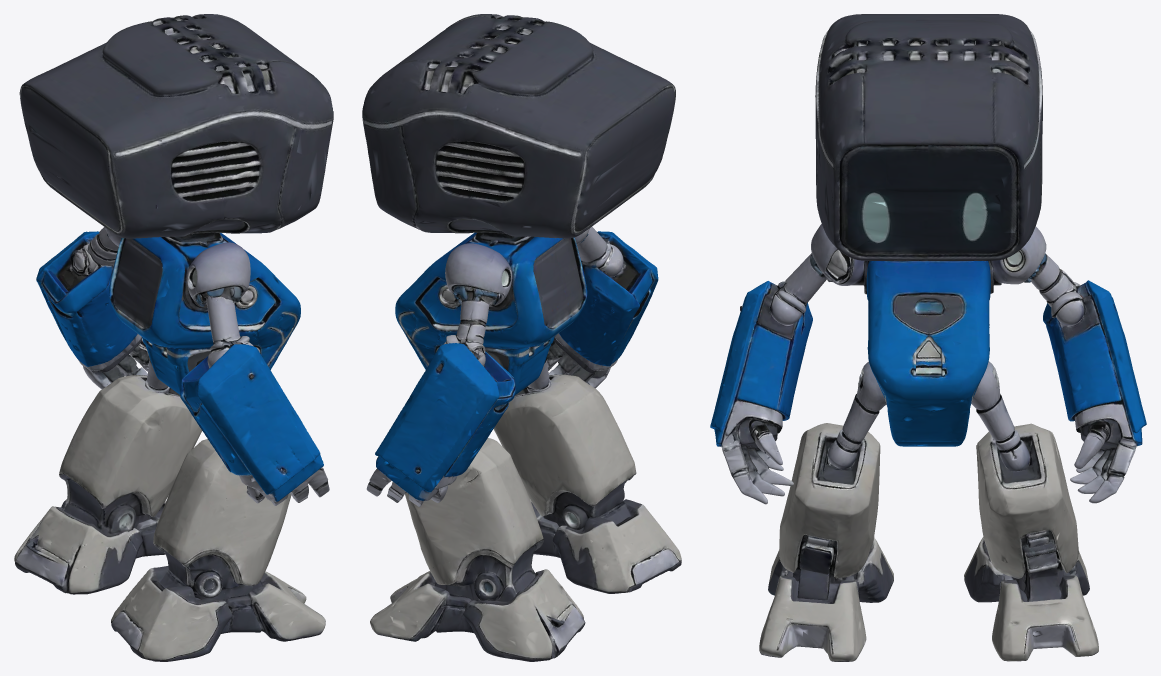
Rendered from pippo-3d.glb.
The picture shows the model from 3 angles, left to right: view 1: azimuth 30°, elevation 25°; view 2: azimuth 150°, elevation 25°; view 3: azimuth 270°, elevation 25°; orthographic projection. The views are drawn at different scales.
Parts seen in each view (by area): view 1: tripo_part_10, tripo_part_12, tripo_part_9, tripo_part_0, tripo_part_3, tripo_part_2, tripo_part_14, tripo_part_new_0, tripo_part_1, tripo_part_13, tripo_part_8; view 2: tripo_part_10, tripo_part_9, tripo_part_3, tripo_part_12, tripo_part_14, tripo_part_new_0, tripo_part_2, tripo_part_0, tripo_part_13, tripo_part_1, tripo_part_8; view 3: tripo_part_10, tripo_part_9, tripo_part_0, tripo_part_14, tripo_part_12, tripo_part_3, tripo_part_2, tripo_part_new_0, tripo_part_1, tripo_part_13, tripo_part_11, tripo_part_6.
Boxes of the visible parts, box(x1,y1,x2,y2) form: tripo_part_10: box(19, 14, 333, 238); tripo_part_12: box(26, 375, 202, 562); tripo_part_9: box(109, 233, 300, 394); tripo_part_0: box(180, 344, 329, 505); tripo_part_3: box(153, 439, 291, 600); tripo_part_2: box(111, 566, 325, 661); tripo_part_14: box(36, 231, 149, 389); tripo_part_new_0: box(14, 501, 165, 594); tripo_part_1: box(187, 242, 253, 368); tripo_part_13: box(70, 227, 121, 274); tripo_part_8: box(161, 232, 221, 246); tripo_part_10: box(362, 14, 675, 238); tripo_part_9: box(395, 232, 587, 395); tripo_part_3: box(493, 374, 636, 529); tripo_part_12: box(405, 438, 571, 626); tripo_part_14: box(366, 343, 515, 506); tripo_part_new_0: box(370, 569, 585, 661); tripo_part_2: box(530, 499, 681, 593); tripo_part_0: box(547, 231, 658, 388); tripo_part_13: box(443, 243, 512, 366); tripo_part_1: box(575, 226, 623, 276); tripo_part_8: box(475, 232, 534, 245); tripo_part_10: box(815, 14, 1042, 260); tripo_part_9: box(851, 261, 1001, 446); tripo_part_0: box(710, 281, 812, 504); tripo_part_14: box(1043, 280, 1146, 503); tripo_part_12: box(976, 423, 1078, 601); tripo_part_3: box(779, 423, 880, 600); tripo_part_2: box(759, 537, 893, 661); tripo_part_new_0: box(964, 537, 1098, 661); tripo_part_1: box(771, 224, 864, 325); tripo_part_13: box(990, 226, 1084, 325); tripo_part_11: box(971, 361, 1030, 471); tripo_part_6: box(828, 361, 886, 469).
Size of the model in its own units: 0.4415 by 0.9995 by 0.6754.
14 materials, 14 textured.
